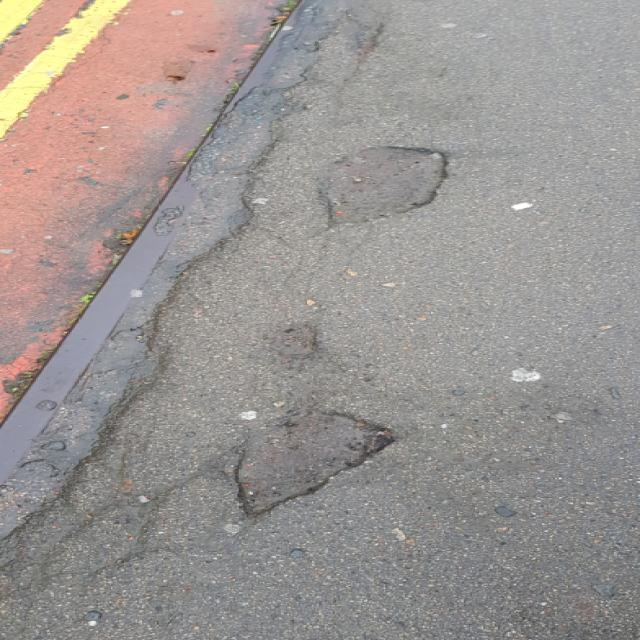pothole: (222, 406, 403, 516), (318, 143, 456, 227)
